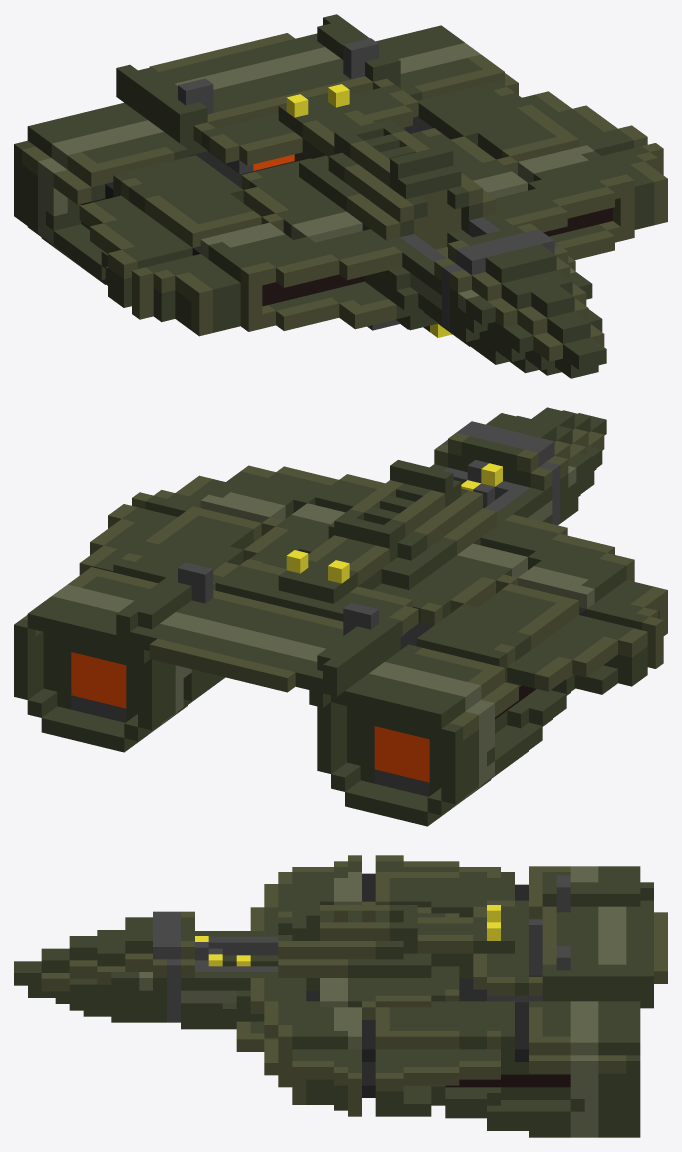
Rendered from Body-48-CamoJet_Body.obj.
3 views of the same model, one above another, from view 1: azimuth 30°, elevation 25°; view 2: azimuth 150°, elevation 25°; view 3: azimuth 270°, elevation 25° (orthographic). The views are drawn at different scales.
Visible parts, largest first — view 1: CamoJet_Body; view 2: CamoJet_Body; view 3: CamoJet_Body.
Part boxes in pixels (x1=…): CamoJet_Body: x1=14, y1=14, x2=667, y2=378; CamoJet_Body: x1=14, y1=407, x2=667, y2=826; CamoJet_Body: x1=14, y1=855, x2=667, y2=1137.
Bounding box in the file's own units: 3.8 × 1.2 × 4.7.
